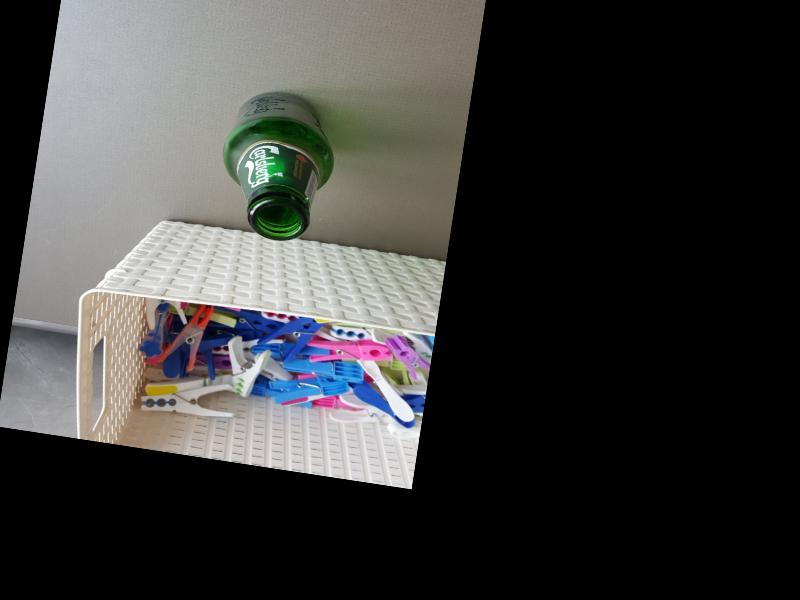Beer: (210, 83, 343, 246)
